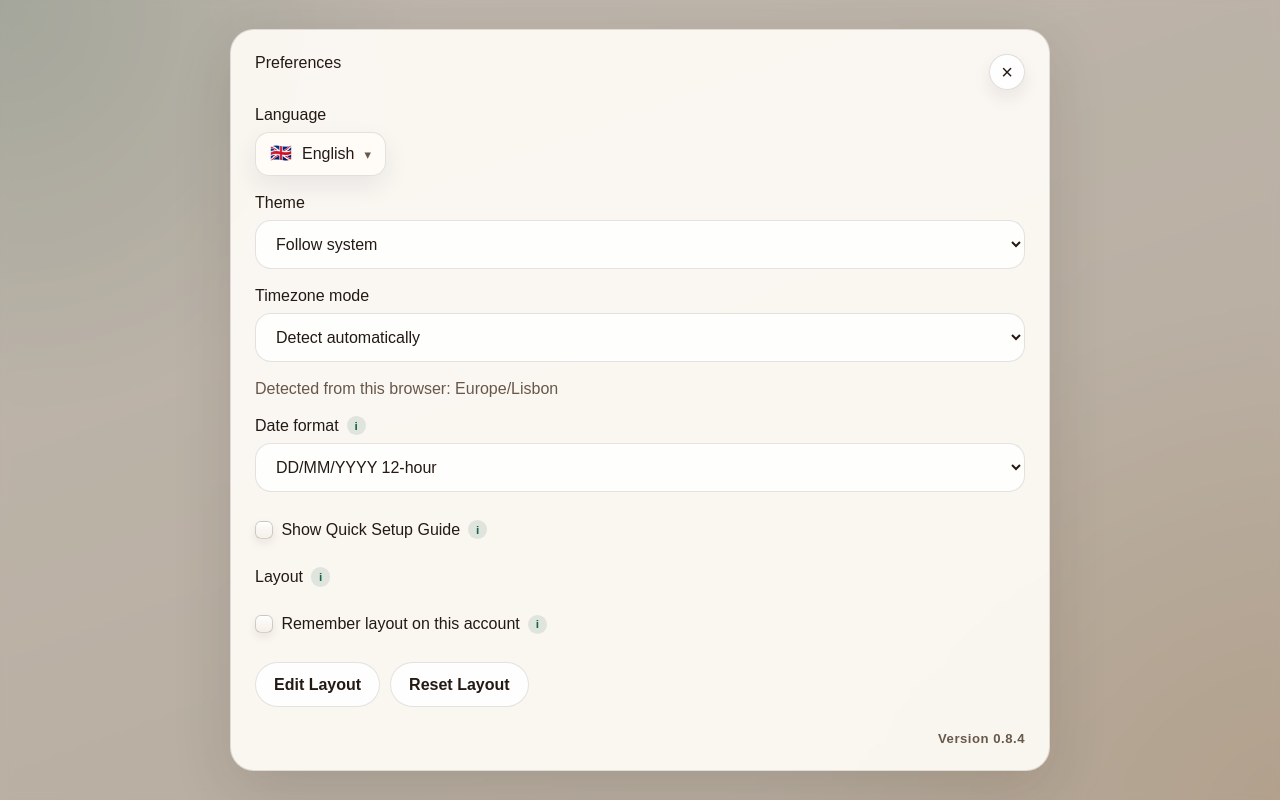
it: PreferencesDialog › prefills the custom date-format dialog from the currently selected preset
Select "Custom…" in the dropdown labelled "Date format i" at (640, 468), box [255, 443, 1025, 492]
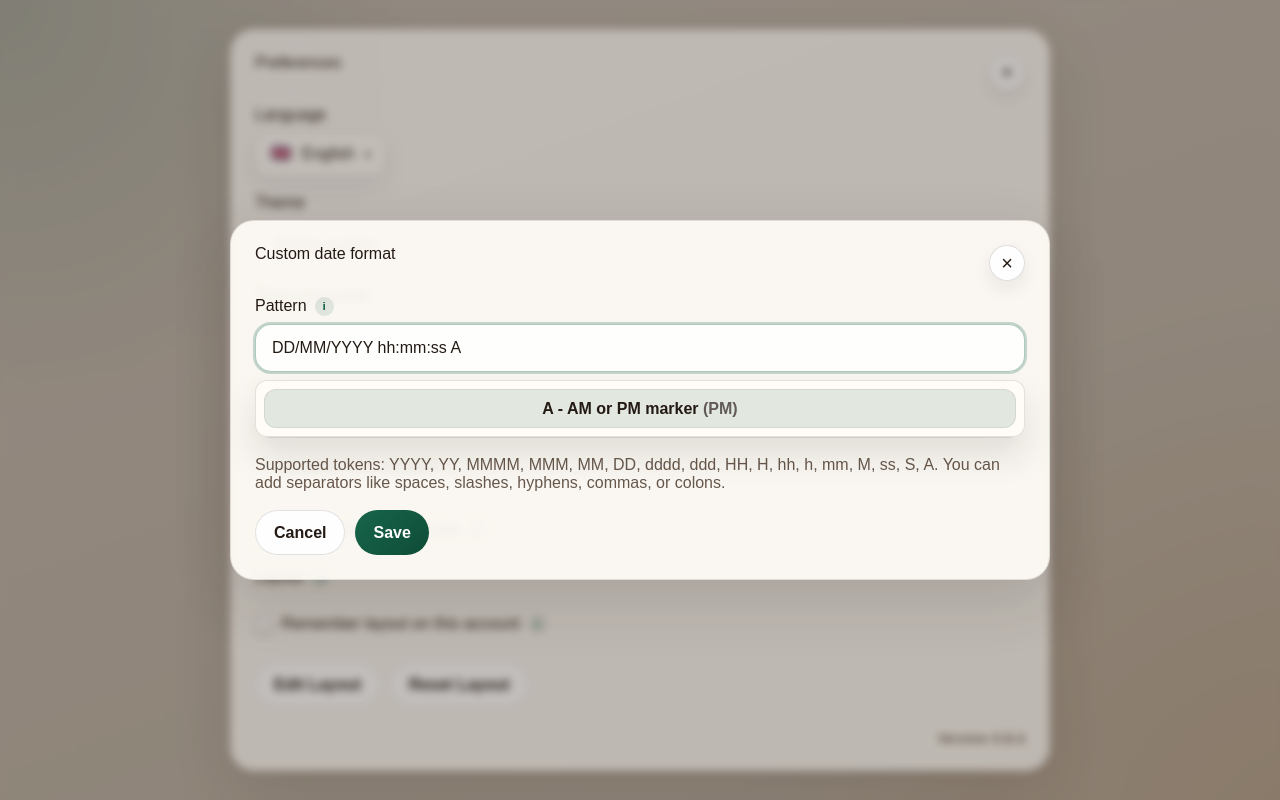
Expected: the dropdown with placeholder "YYYY-MM-DD HH:mm:ss" holds "DD/MM/YYYY hh:mm:ss A", [255, 324, 1025, 372]
